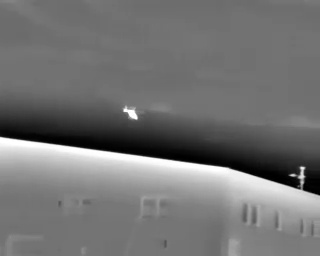HELICOPTER: (119, 101, 149, 125)
